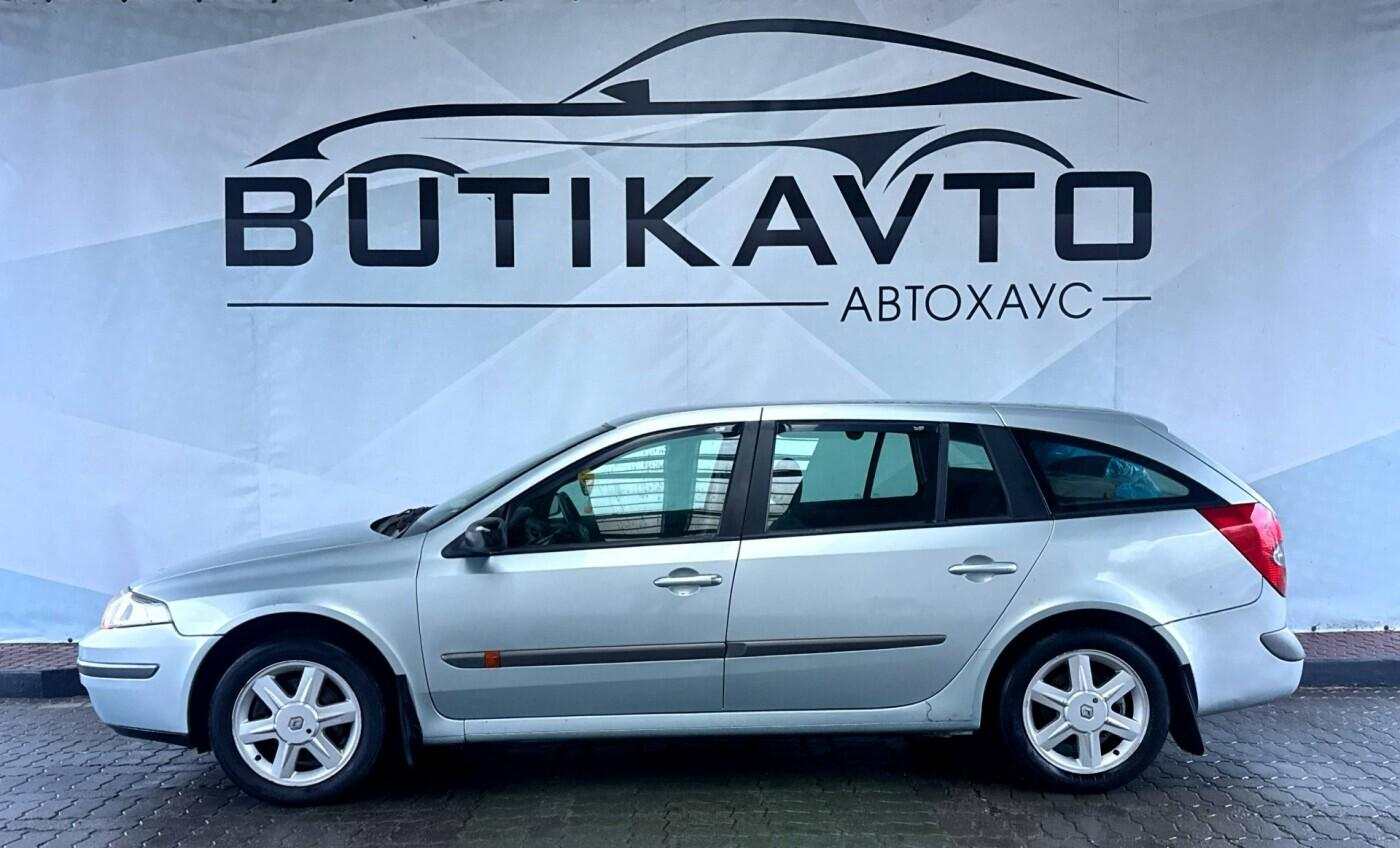Laguna_2001-2005: (80, 400, 1303, 804)
